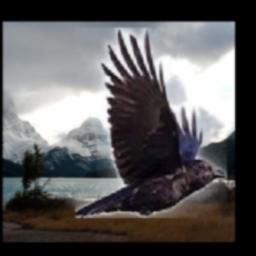Crow: (74, 28, 226, 219)
